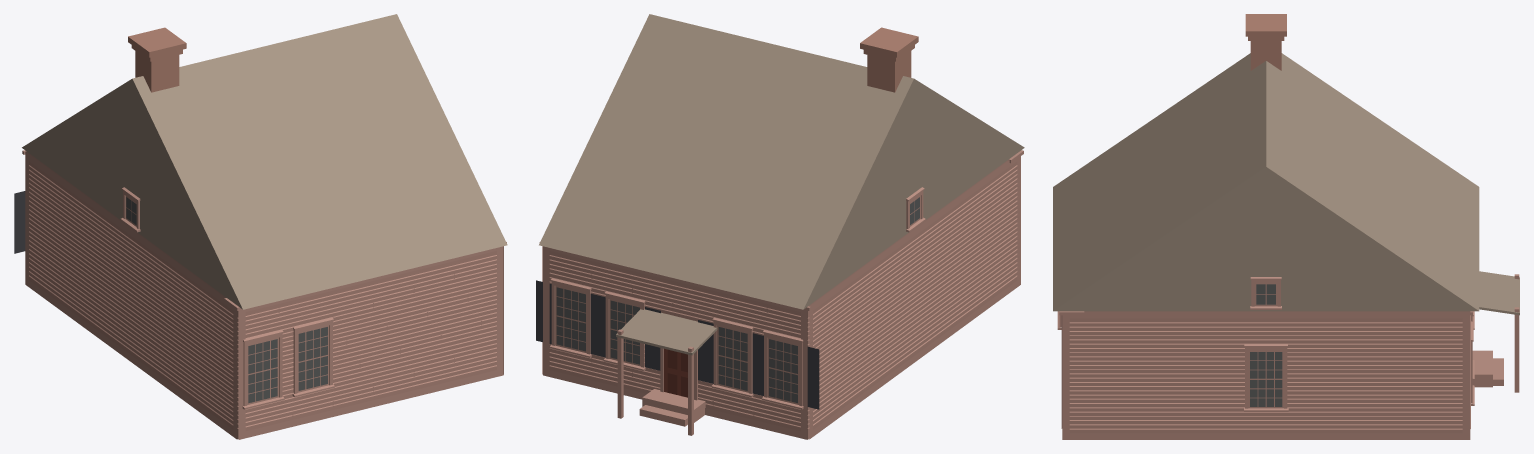
Rendered from recon_1835_blk_school_section_tier_82_h1_06__inferred_1835.glb.
3 views of the same model, side by side, from view 1: azimuth 30°, elevation 25°; view 2: azimuth 150°, elevation 25°; view 3: azimuth 270°, elevation 25° (orthographic). The views are drawn at different scales.
Parts seen in each view (by area): view 1: recon_1835_blk_school_section_tier_82_h1_06__inferred_1835; view 2: recon_1835_blk_school_section_tier_82_h1_06__inferred_1835; view 3: recon_1835_blk_school_section_tier_82_h1_06__inferred_1835.
Boxes of the visible parts, <box> form: recon_1835_blk_school_section_tier_82_h1_06__inferred_1835: <box>14,14,507,439</box>; recon_1835_blk_school_section_tier_82_h1_06__inferred_1835: <box>536,14,1024,439</box>; recon_1835_blk_school_section_tier_82_h1_06__inferred_1835: <box>1053,14,1519,439</box>.
Size of the model in its own units: 8.53 by 9.1 by 12.66.
